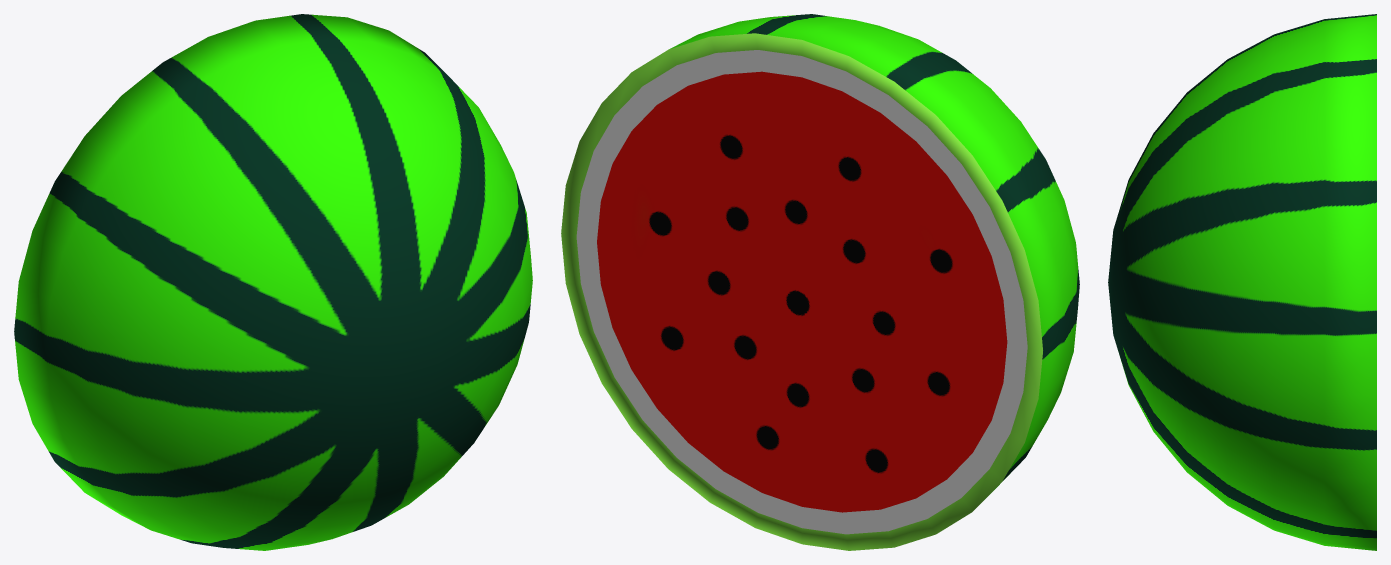
File: Watermalon.fbx
3 renders of one model, left to right at view 1: azimuth 30°, elevation 25°; view 2: azimuth 150°, elevation 25°; view 3: azimuth 270°, elevation 25°, orthographic. The views are drawn at different scales.
Visible parts, largest first — view 1: Sphere; view 2: Sphere; view 3: Sphere.
Boxes of the visible parts, box(x1,y1,x2,y2) form: Sphere: box(14, 14, 532, 550); Sphere: box(561, 14, 1079, 550); Sphere: box(1108, 14, 1376, 550).
Size of the model in its own units: 160 by 160 by 80.
Materials: 1 (1 with a texture image).
